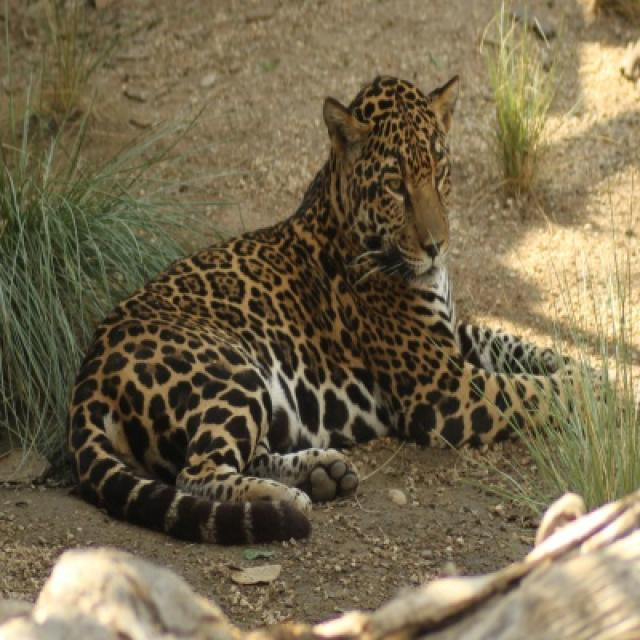Jaguar: (64, 75, 557, 546)
